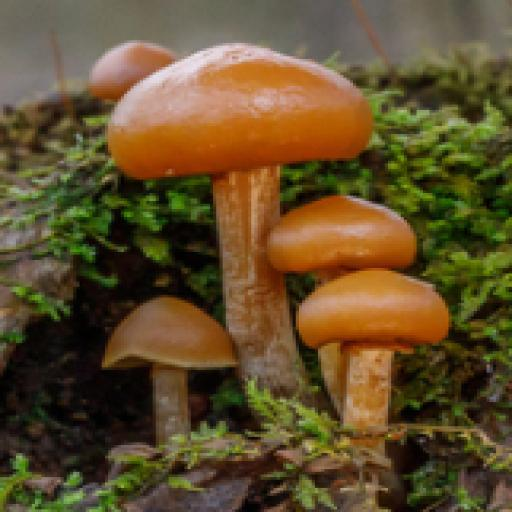mushroom: (64, 18, 469, 438)
